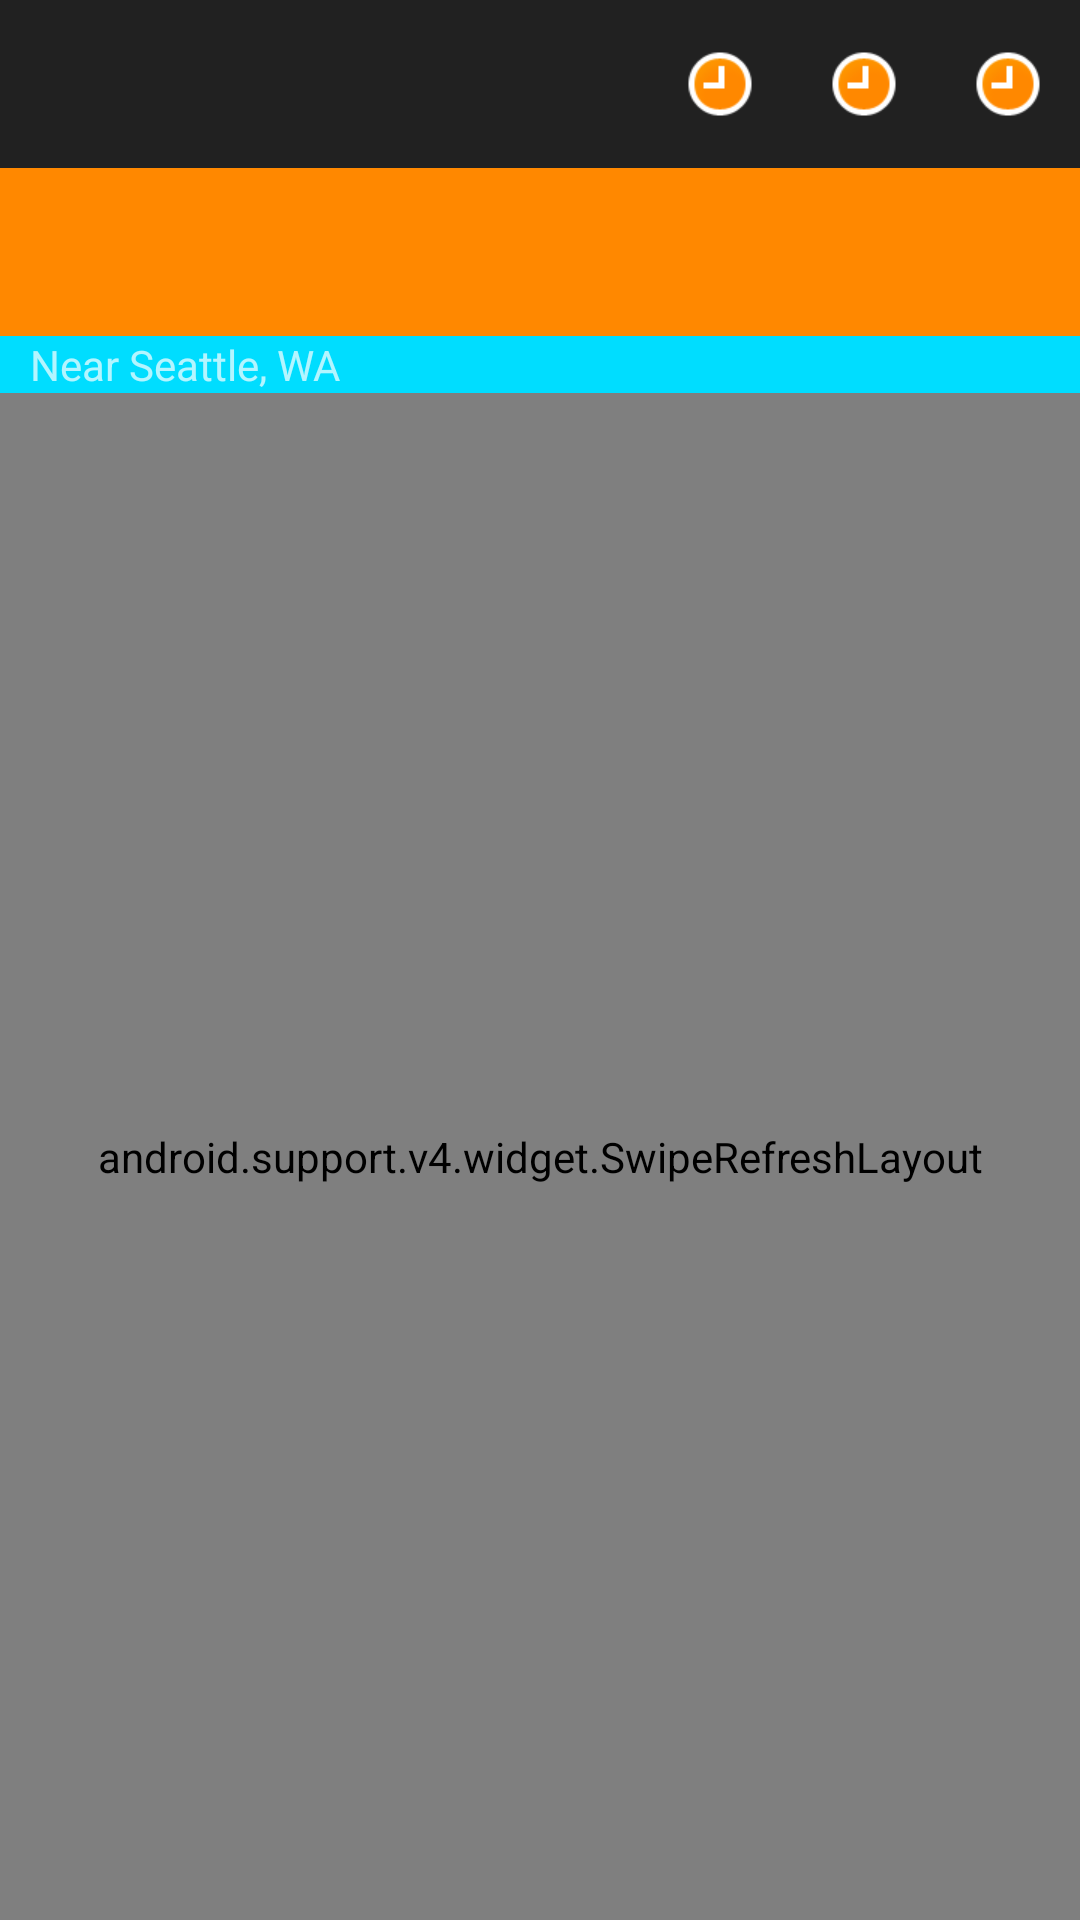

Screen size 1080×1920. Icon name, then its box in pixels as (x1, y1, x2, y2):
presence away: (688, 52, 752, 116), (832, 52, 896, 116), (976, 52, 1040, 116)
